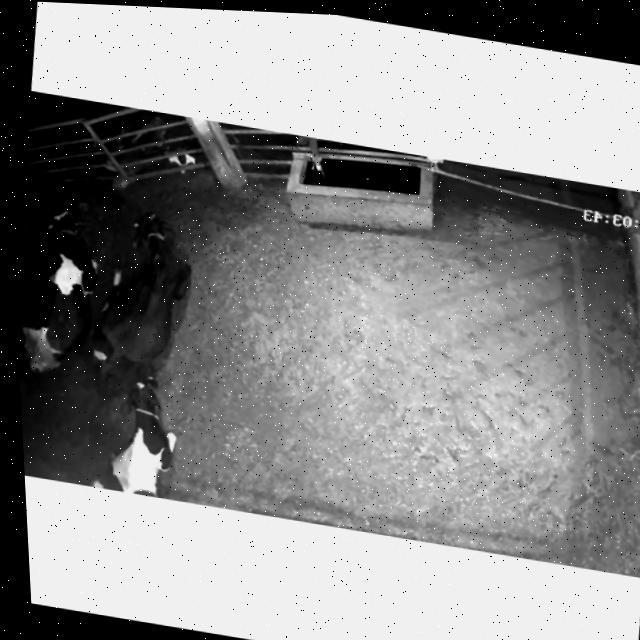lay: (75, 194, 219, 404), (9, 170, 111, 393), (84, 365, 212, 504)
